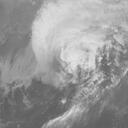cyclone: (40, 38, 103, 80)
